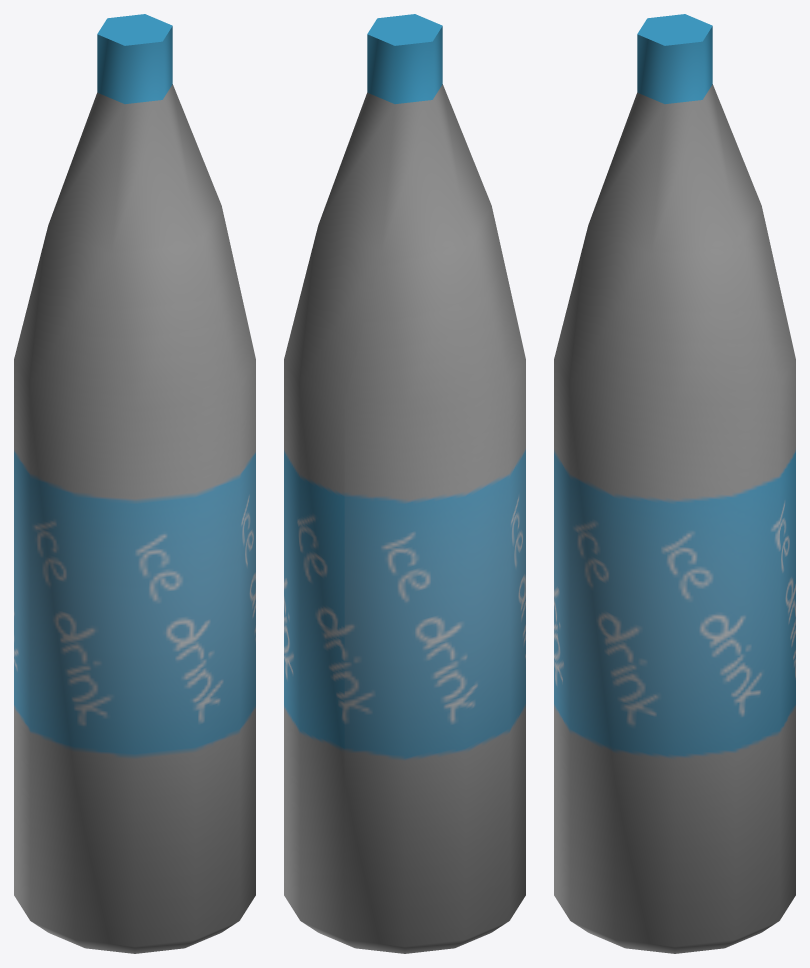
Rendered from BottleA.fbx.
3 renders of one model, left to right at view 1: azimuth 30°, elevation 25°; view 2: azimuth 150°, elevation 25°; view 3: azimuth 270°, elevation 25°, orthographic.
Visible parts, largest first — view 1: BottleA; view 2: BottleA; view 3: BottleA.
Boxes of the visible parts, box(x1,y1,x2,y2) form: BottleA: box(14, 14, 255, 953); BottleA: box(284, 14, 525, 953); BottleA: box(554, 14, 795, 953).
Size of the model in its own units: 6.2 by 24.95 by 6.2.
